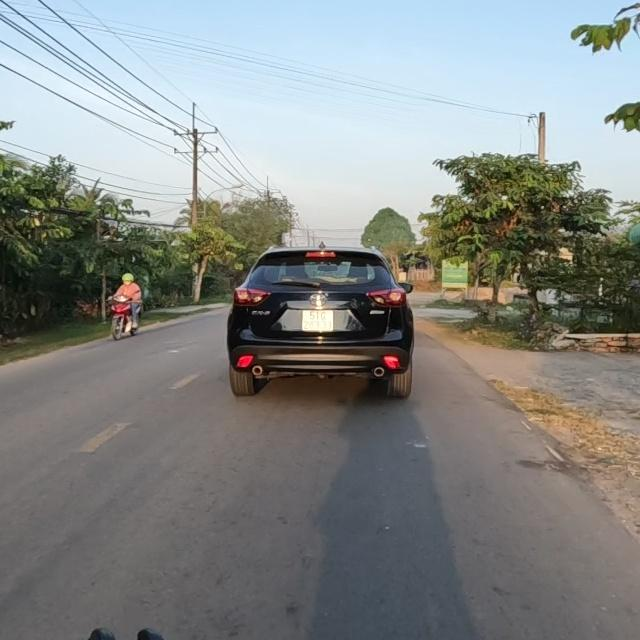license-plate: (300, 307, 335, 333)
